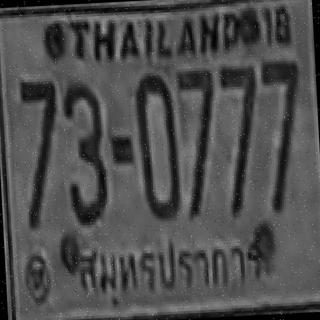N00: (133, 72, 179, 217)
N03: (60, 78, 108, 224)
N07: (176, 67, 218, 194), (260, 57, 302, 174), (219, 63, 259, 181), (18, 78, 60, 187), (219, 63, 259, 168), (18, 77, 59, 175), (176, 68, 216, 164), (18, 78, 59, 163), (219, 62, 258, 150), (176, 68, 215, 147)
P57: (72, 230, 264, 312)
